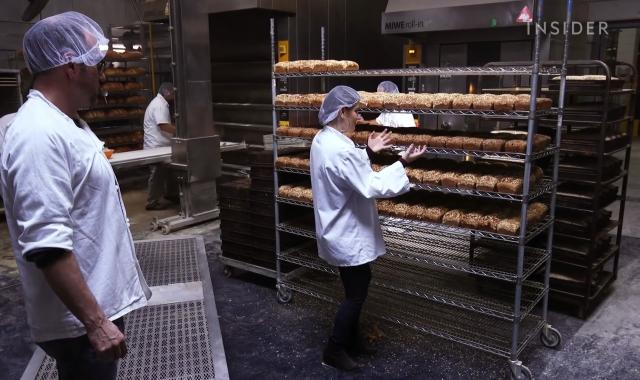hairnet: (22, 9, 108, 74), (317, 85, 360, 126), (377, 79, 400, 95), (159, 81, 176, 101)
